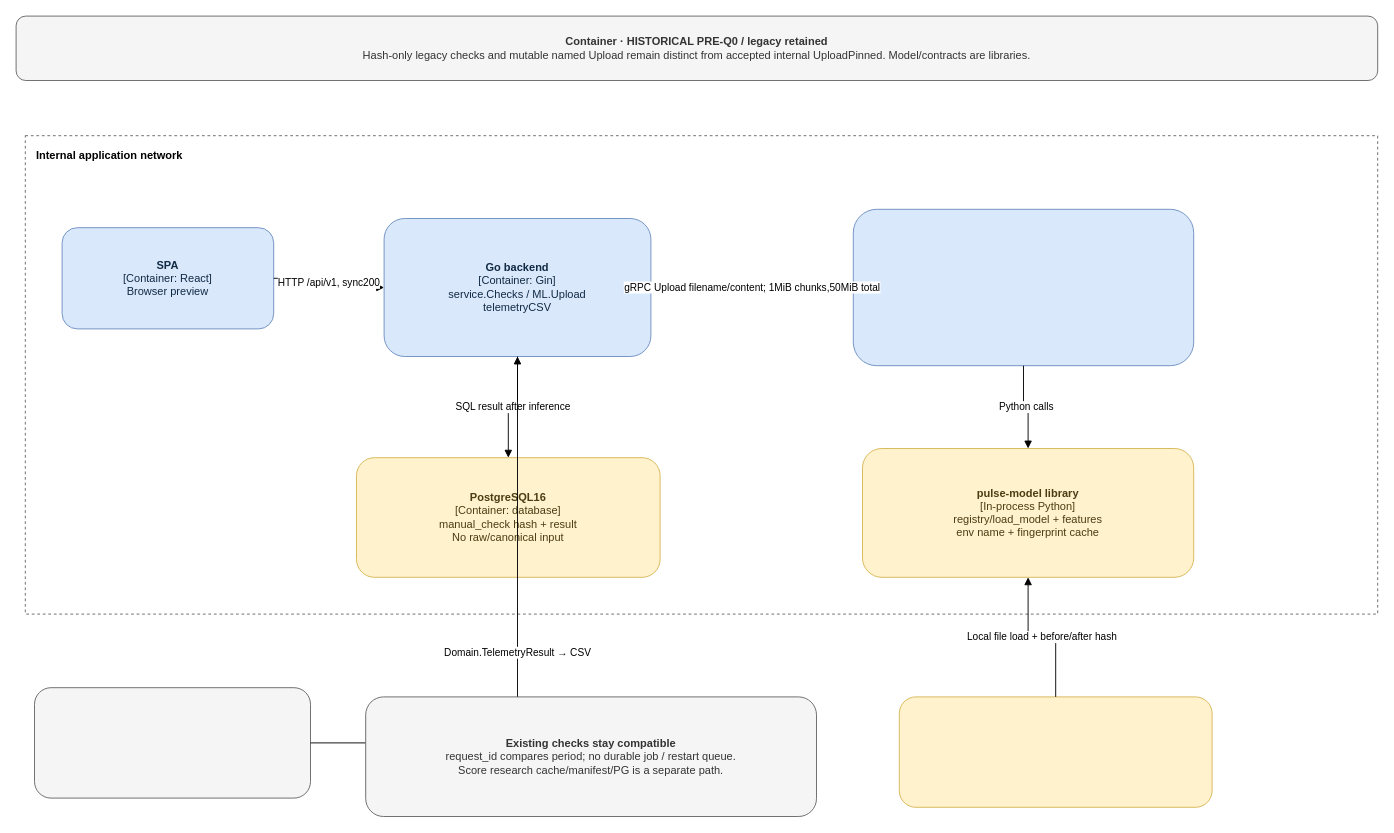
Image size: 1394x833. Some labels were removed from this diagram. Here are the shapes that lost their labels. From the top down, the centre of each, then its label:
pixel 1023 287: Python ML [Container: gRPC] server.Upload → engine.ml_upload bundle-only compute
pixel 172 742: Period read [Existing adapter] ReadApp: saved telemetry/archive
pixel 1055 751: Host models/name [Filesystem, operator trust] mutable source mounted :ro
